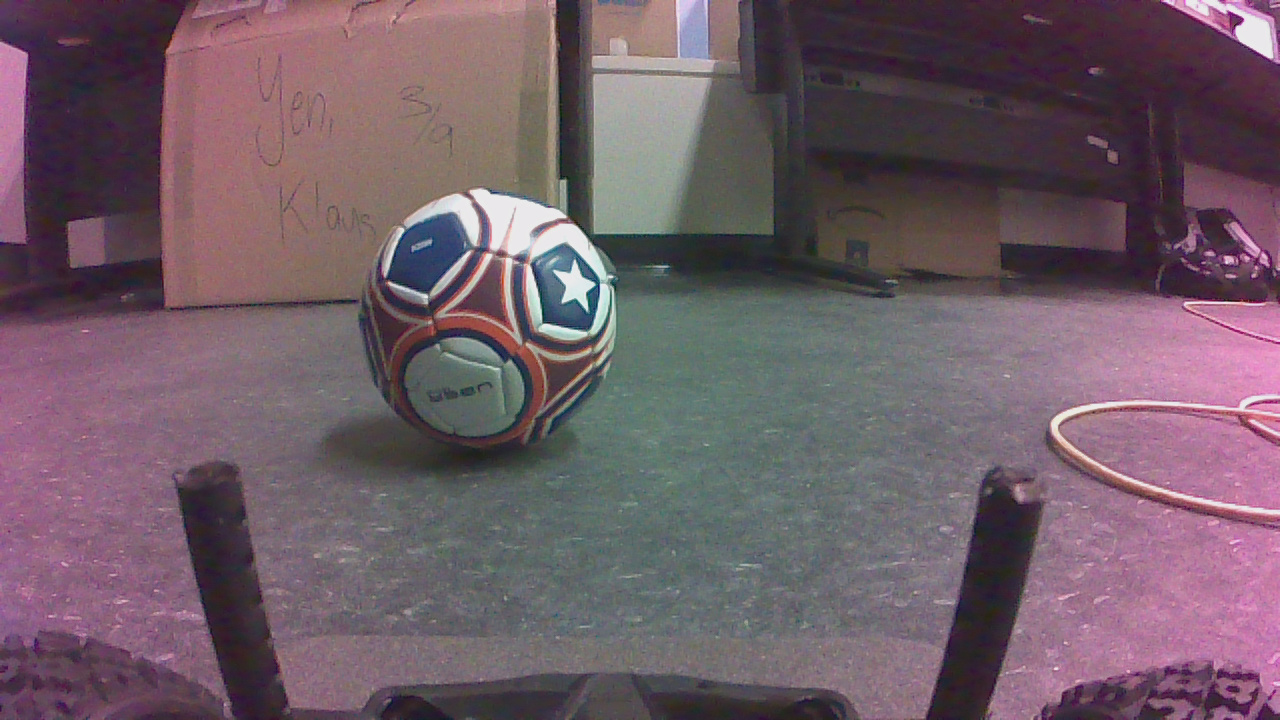ball: (357, 191, 624, 461)
